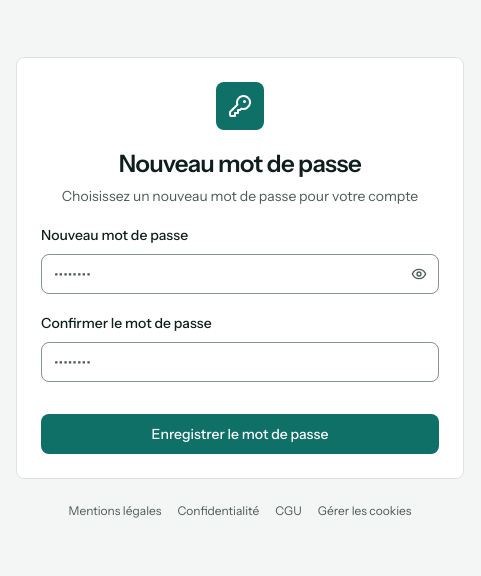
Scenario: ResetPasswordPage › offers a new link when the token is expired
Type "Nouveau1!" into the password field labelled "Nouveau mot de passe" at (240, 274), box [41, 254, 439, 294]
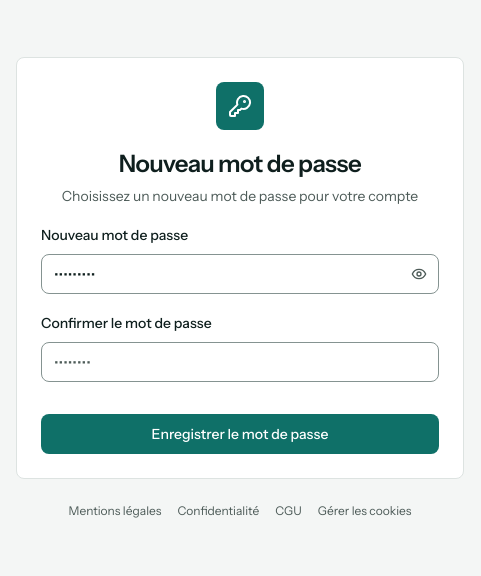
Type "Nouveau1!" into the password field labelled "Confirmer le mot de passe" at (240, 362), box [41, 342, 439, 382]
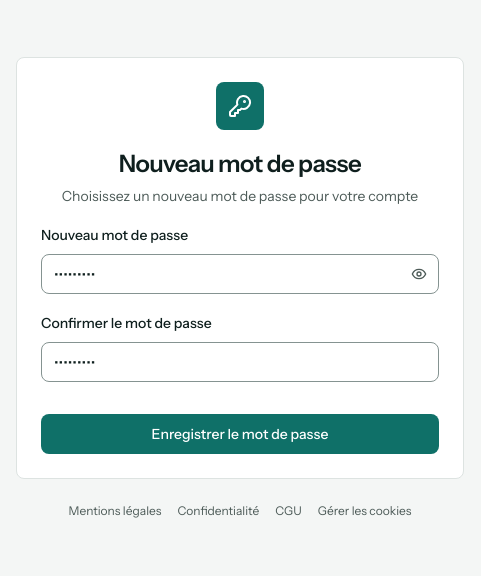
Click the button "Enregistrer le mot de passe" at (240, 434), box [41, 414, 439, 454]
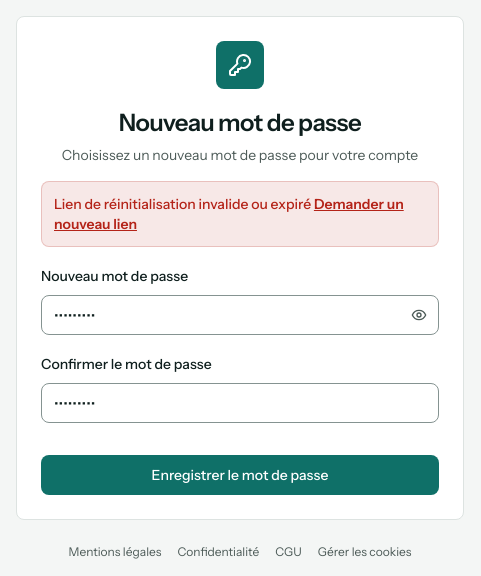
Expected: the text "invalide ou expiré" is shown, [54, 195, 311, 213]
Expected: the link "Demander un nouveau lien" is shown, [54, 195, 404, 233]
